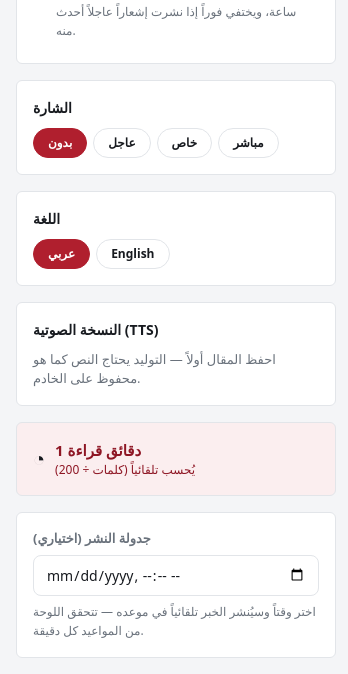
it: ArticleEditorForm scheduling › keeps the schedule button hidden until a time is picked
The width and height of the screenshot is (348, 674).
(page scrolled)
Check: the text "⏰ جدولة النشر" is not shown
Type "2030-01-01T09:00" into the field labelled "جدولة النشر (اختياري)". click: (176, 575)
box: x1=33 y1=555 x2=319 y2=596
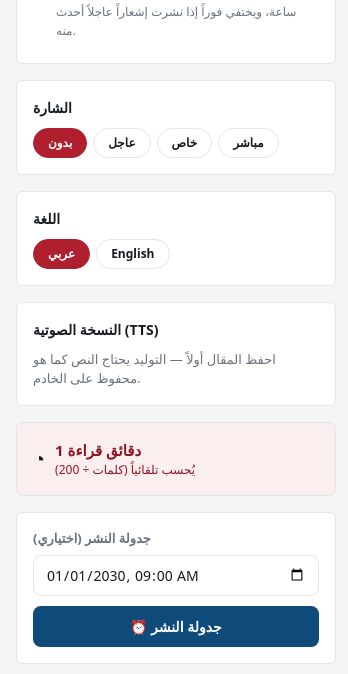
Check: the button "⏰ جدولة النشر" is shown, box x1=33 y1=606 x2=319 y2=647
